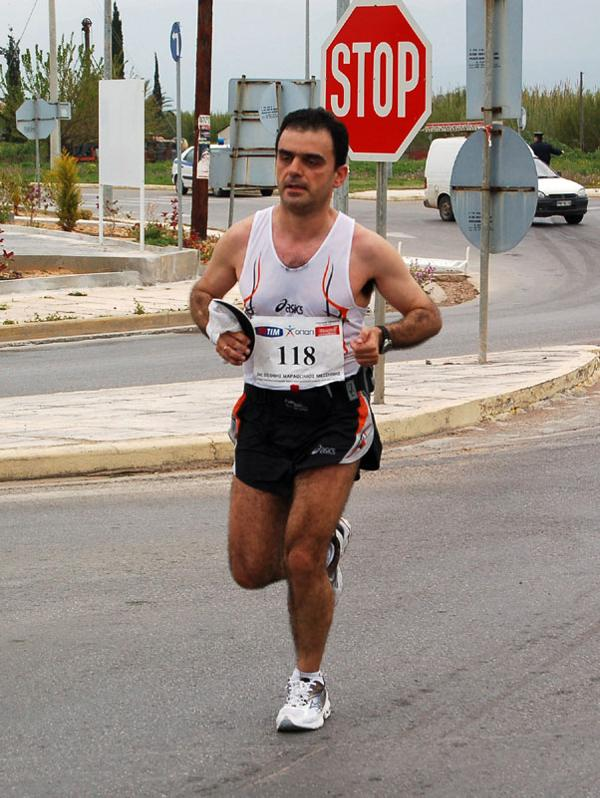person: (190, 109, 444, 734)
